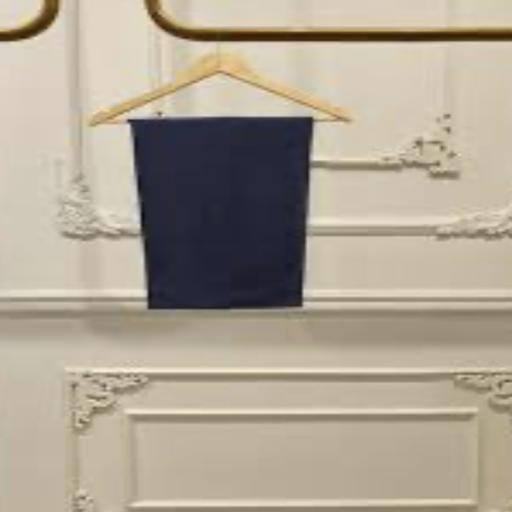Dupatta: (88, 62, 326, 316)
